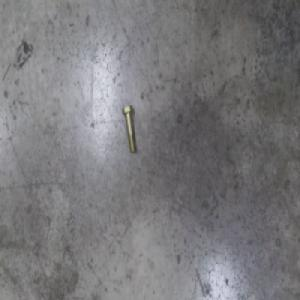Bolt: (122, 102, 136, 151)
